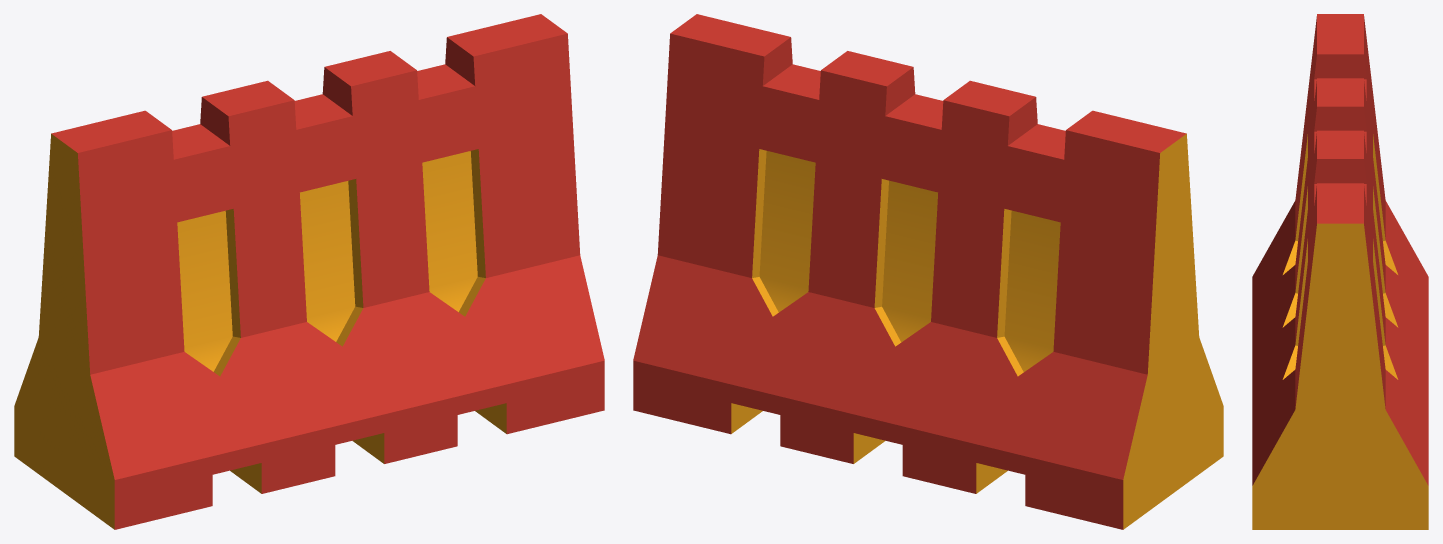
File: Barricade_Plastic_11.fbx
3 renders of one model, left to right at view 1: azimuth 30°, elevation 25°; view 2: azimuth 150°, elevation 25°; view 3: azimuth 270°, elevation 25°, orthographic. The views are drawn at different scales.
Parts seen in each view (by area): view 1: Obstacle_Barricade_Plastic_11; view 2: Obstacle_Barricade_Plastic_11; view 3: Obstacle_Barricade_Plastic_11.
Part boxes in pixels (<box>): Obstacle_Barricade_Plastic_11: <box>14,14,604,529</box>; Obstacle_Barricade_Plastic_11: <box>633,14,1223,529</box>; Obstacle_Barricade_Plastic_11: <box>1252,14,1428,529</box>.
Size of the model in its own units: 98.07 by 66.9 by 34.88.
Materials: 1 (1 with a texture image).
